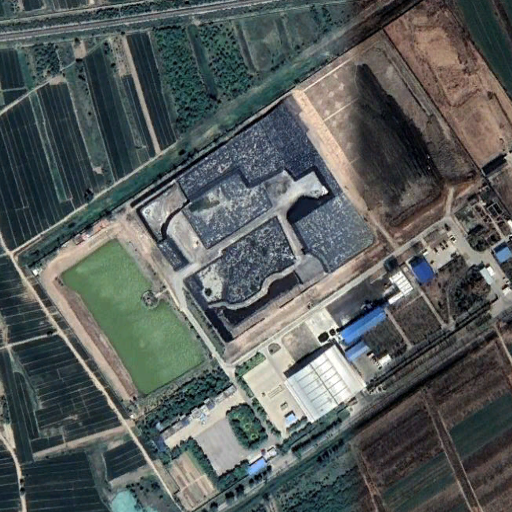lf: (134, 97, 378, 341)
